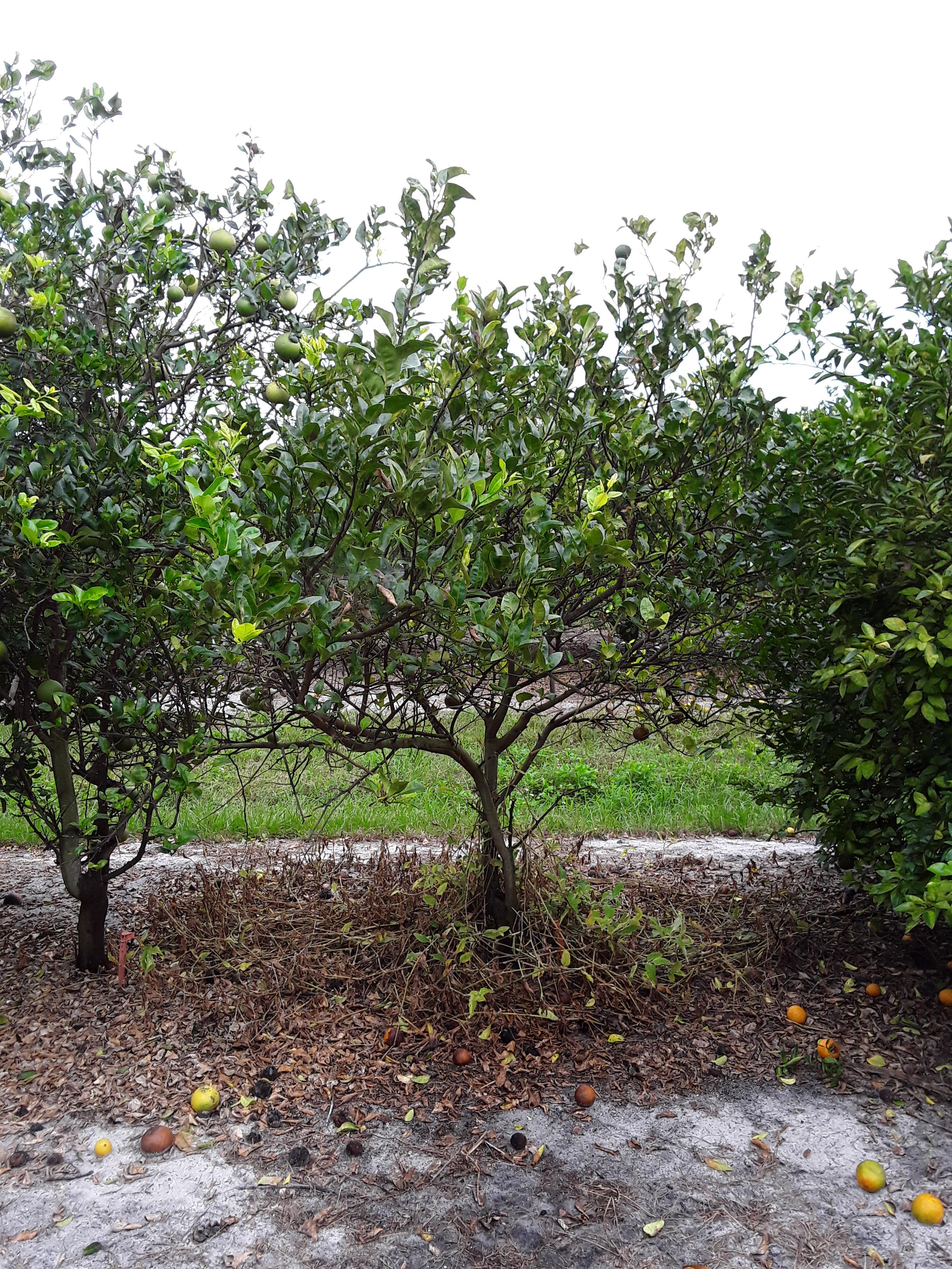fruit_on_ground: (75, 519, 112, 557), (37, 673, 69, 712), (206, 223, 236, 260), (145, 164, 177, 196), (272, 333, 306, 363), (264, 378, 294, 409), (146, 354, 173, 388), (143, 574, 168, 610), (253, 227, 277, 257), (0, 309, 23, 338), (244, 690, 270, 714), (630, 722, 656, 745), (235, 292, 257, 319), (278, 285, 297, 316), (156, 189, 176, 218), (237, 685, 261, 709), (181, 271, 200, 301), (113, 731, 140, 752), (166, 283, 187, 307), (265, 726, 285, 749), (443, 691, 464, 711), (0, 635, 12, 667), (667, 708, 684, 725)
fruit_on_tree: (188, 1075, 225, 1117), (912, 1186, 946, 1226), (143, 1123, 176, 1161), (855, 1162, 885, 1197), (571, 1084, 599, 1111), (254, 1076, 279, 1106), (508, 1127, 530, 1158), (0, 886, 24, 913), (6, 1148, 34, 1170), (341, 1135, 365, 1159), (200, 965, 225, 988), (291, 1145, 314, 1170), (327, 1108, 354, 1129), (817, 1038, 840, 1061), (92, 1134, 113, 1159), (786, 1002, 806, 1025), (45, 1149, 66, 1170), (900, 930, 923, 949), (497, 1027, 516, 1049), (453, 1044, 472, 1066), (865, 978, 884, 999), (935, 987, 950, 1006), (382, 1030, 397, 1049), (943, 958, 952, 975)
